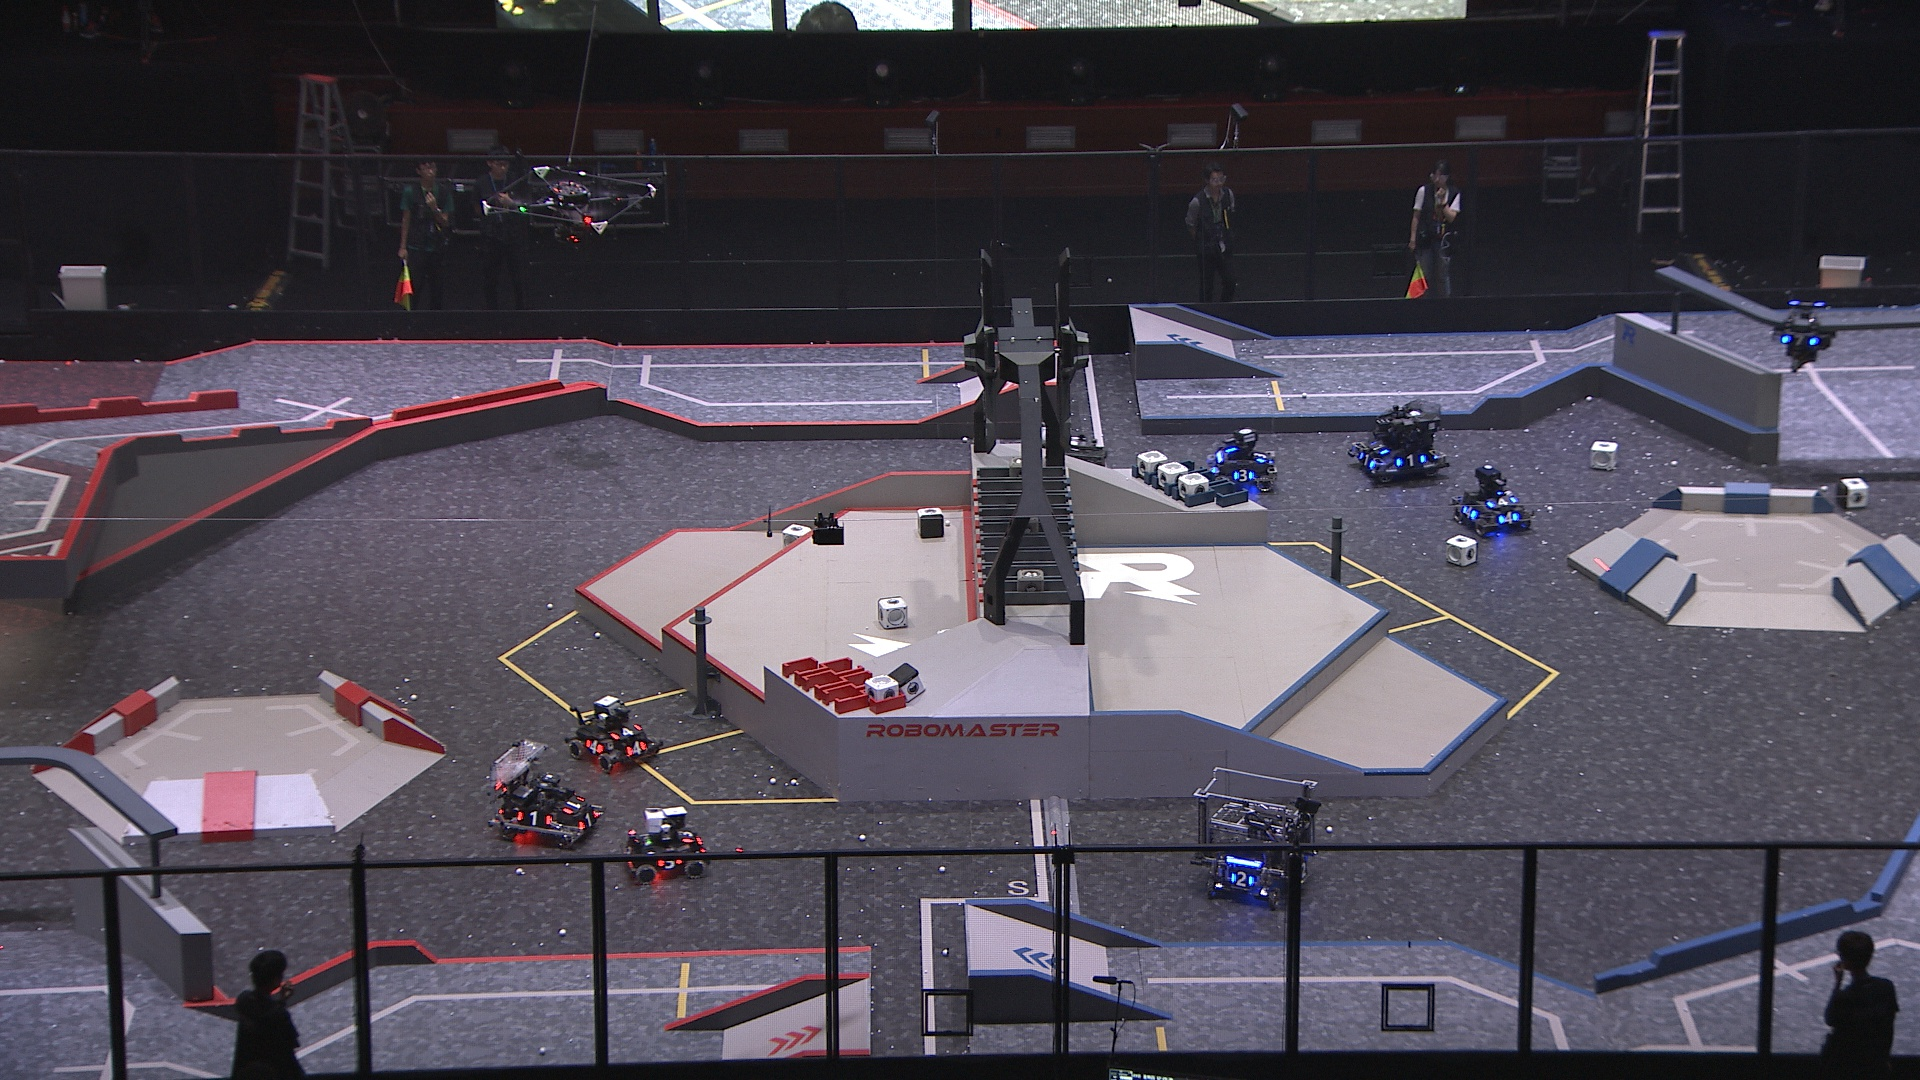armor: (514, 808, 556, 827), (1778, 334, 1820, 348), (1229, 869, 1254, 891), (1395, 454, 1429, 469), (576, 808, 600, 831), (609, 725, 641, 741), (560, 796, 585, 815), (655, 855, 684, 870), (1232, 465, 1255, 483), (1486, 496, 1519, 508), (582, 737, 603, 756), (1495, 510, 1519, 526), (1357, 452, 1377, 471), (626, 740, 647, 757), (678, 828, 698, 844), (1461, 504, 1480, 520), (1373, 440, 1389, 458), (1250, 448, 1269, 463)
car: (1192, 766, 1319, 909), (487, 740, 604, 851), (1344, 398, 1451, 485), (564, 698, 661, 773), (1451, 463, 1538, 537), (624, 807, 708, 882), (1207, 429, 1280, 496)
watcher: (1770, 297, 1836, 373)
